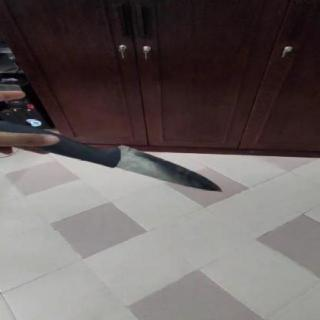knife: (83, 132, 225, 198)
